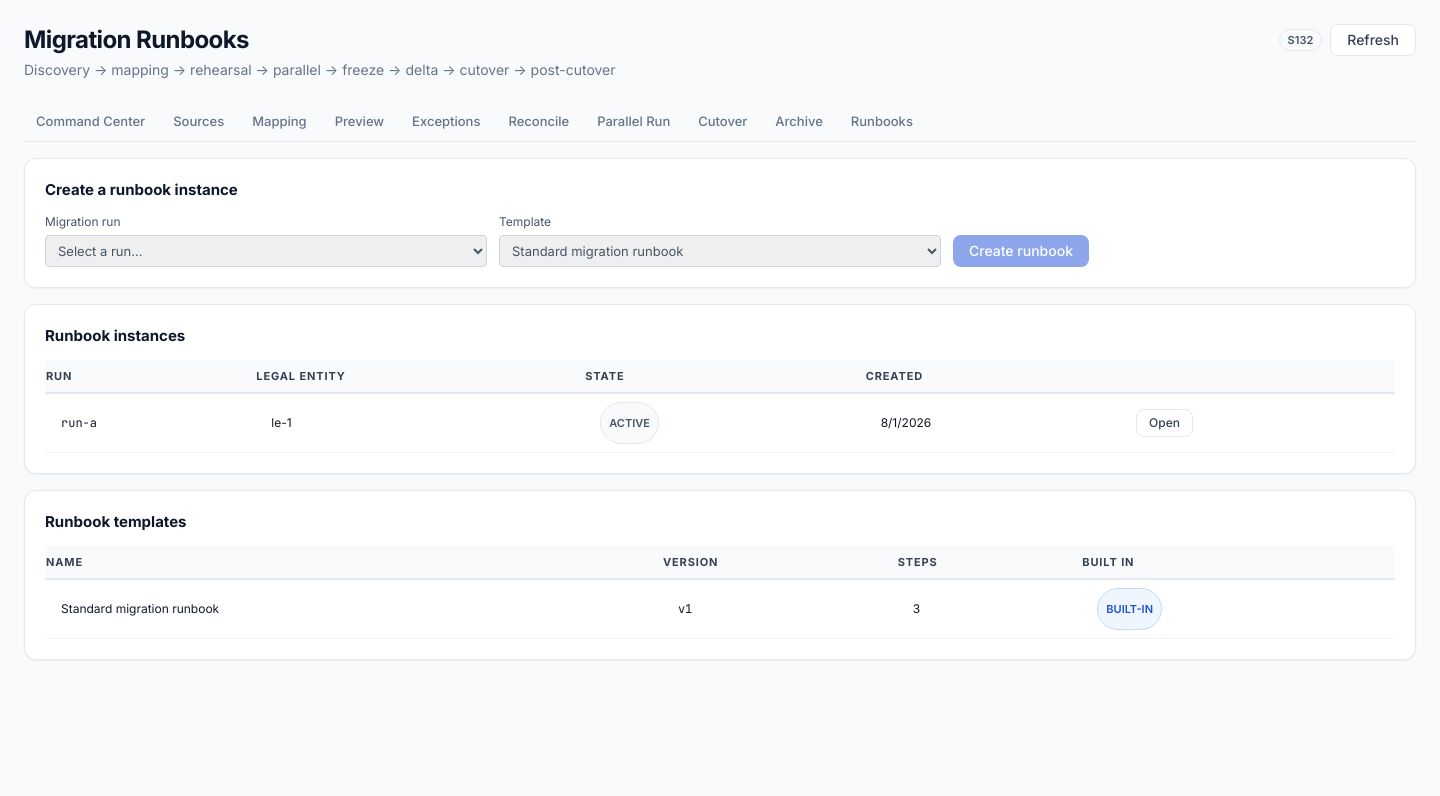
Test case: MigrationRunbooks › surfaces a service refusal to complete a step whose gate is unsatisfied
This screenshot has width=1440, height=796.
Click the button with test id "runbook-open-rb-1" at (1165, 423), box [1136,409,1193,437]
(page scrolled)
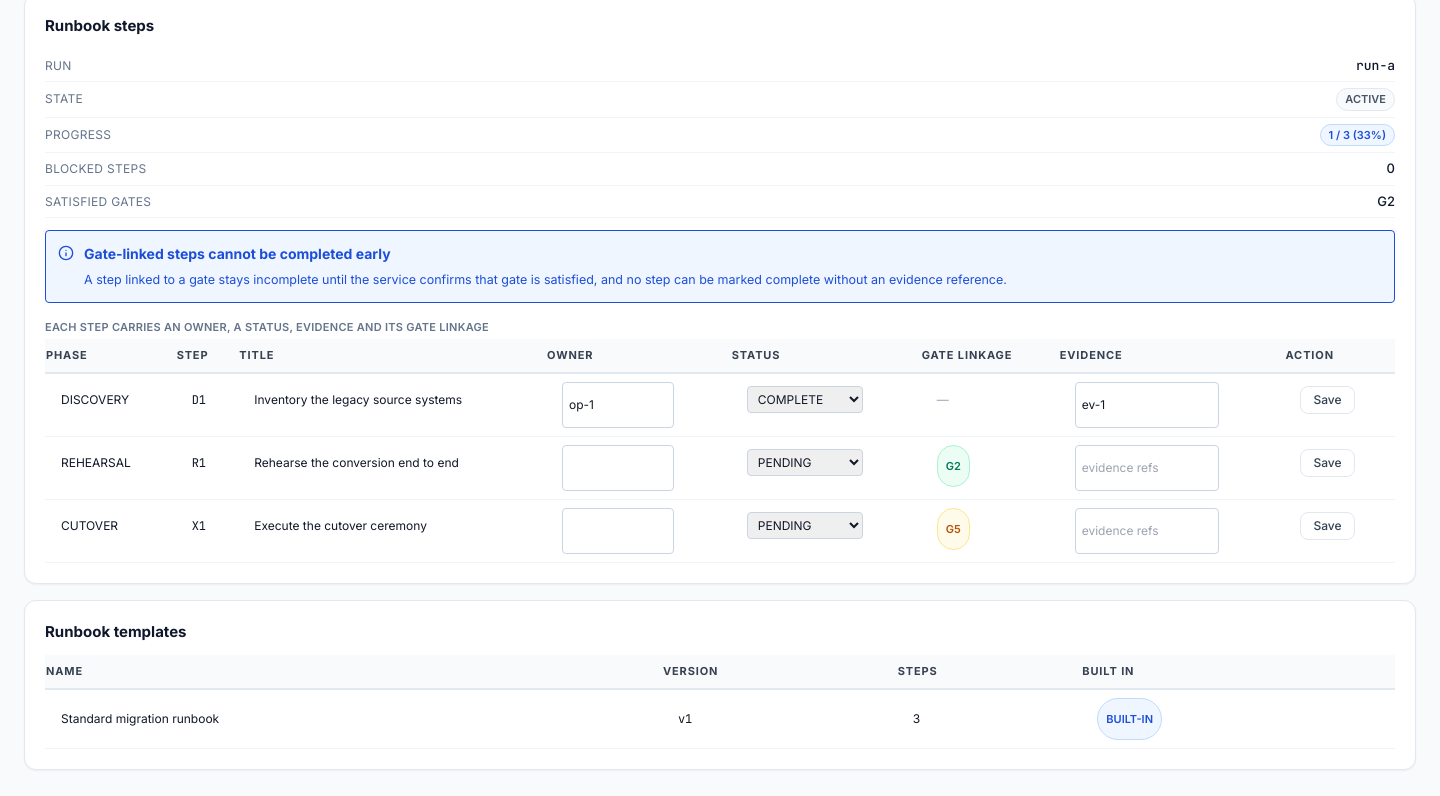
Expected: the button with test id "step-save-X1" is shown
Click the button with test id "step-save-X1" at (1328, 526), box [1300,512,1355,540]
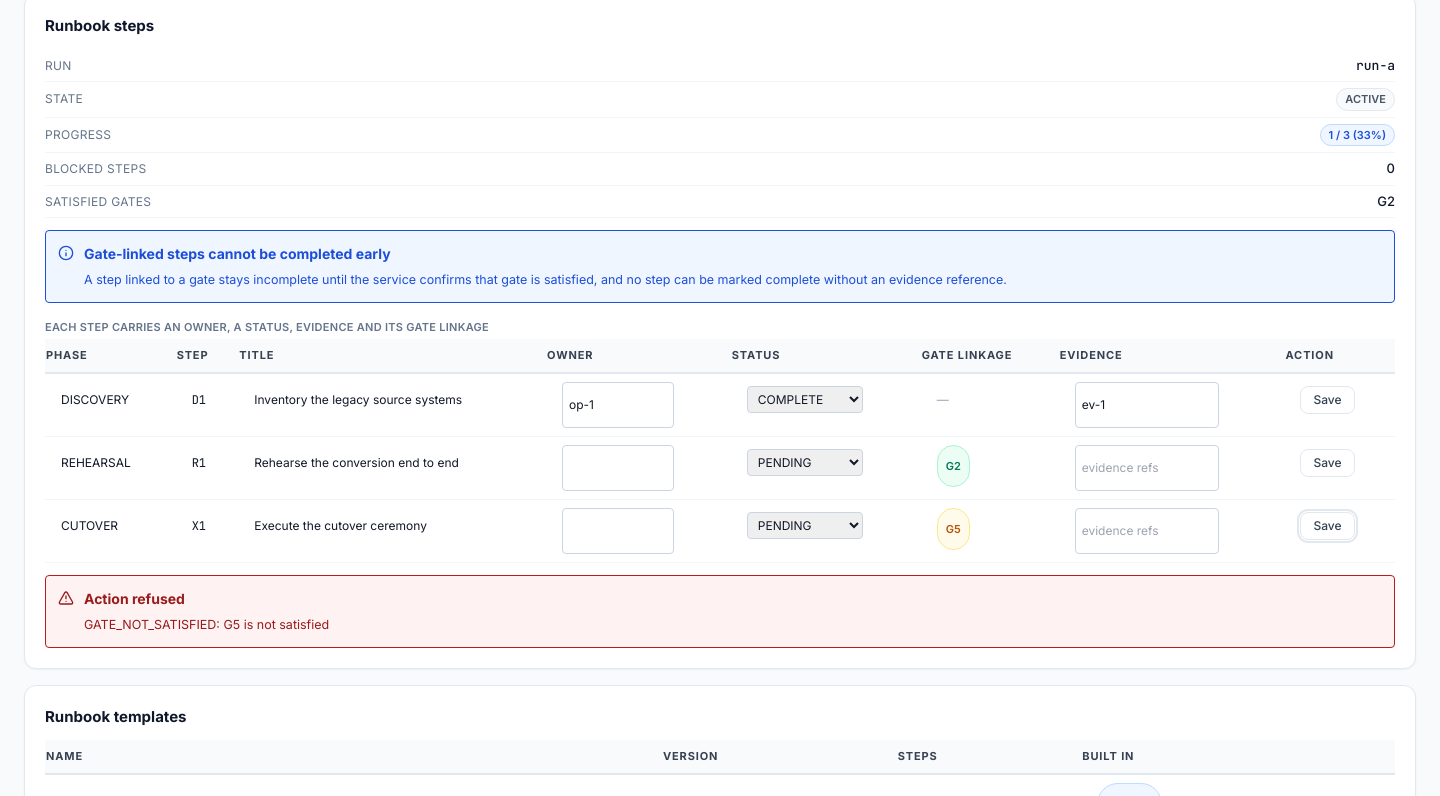
Expected: the element with test id "step-update-error" is shown, [45,575,1395,648]
Expected: the text "GATE_NOT_SATISFIED: G5 is not satisfied" is shown, [84,617,329,632]
